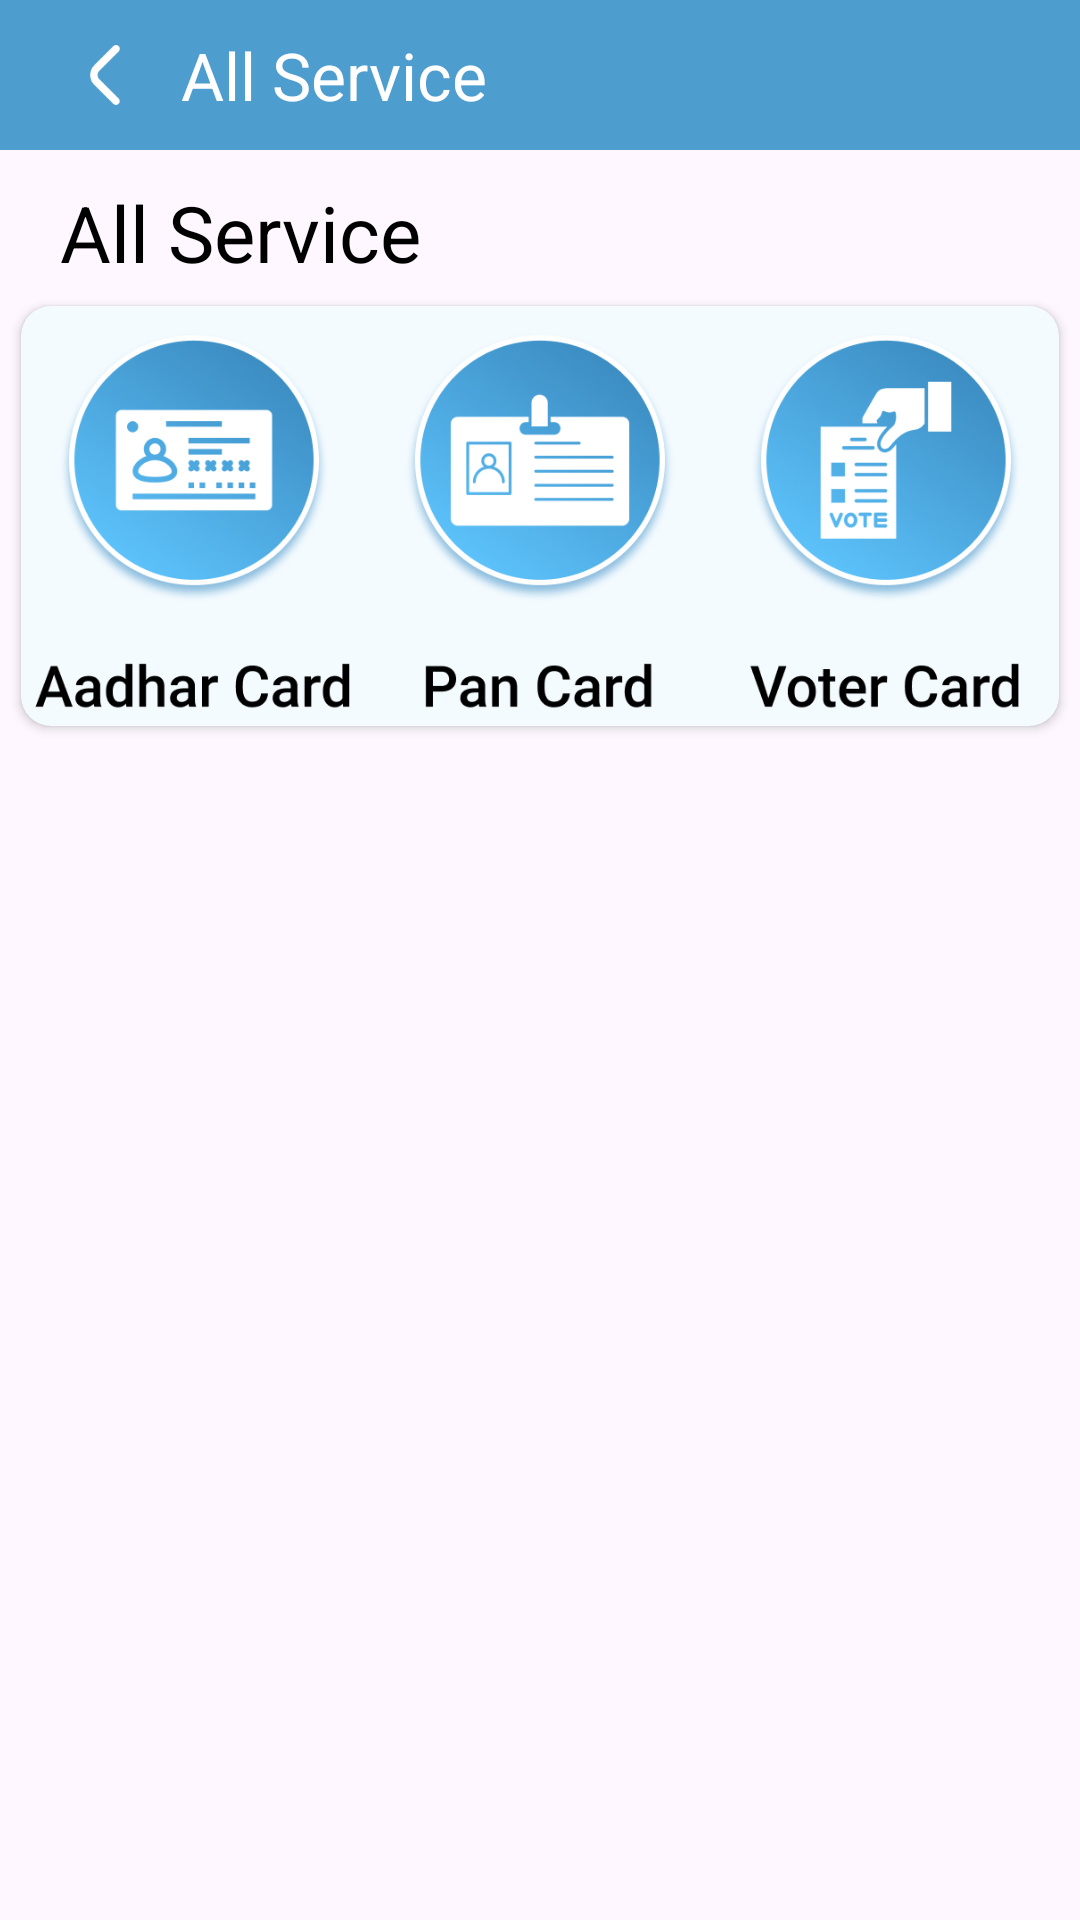

Screen size 1080x1920. Icon name, then its center in pixels as point (x, y):
back: point (105, 75)
